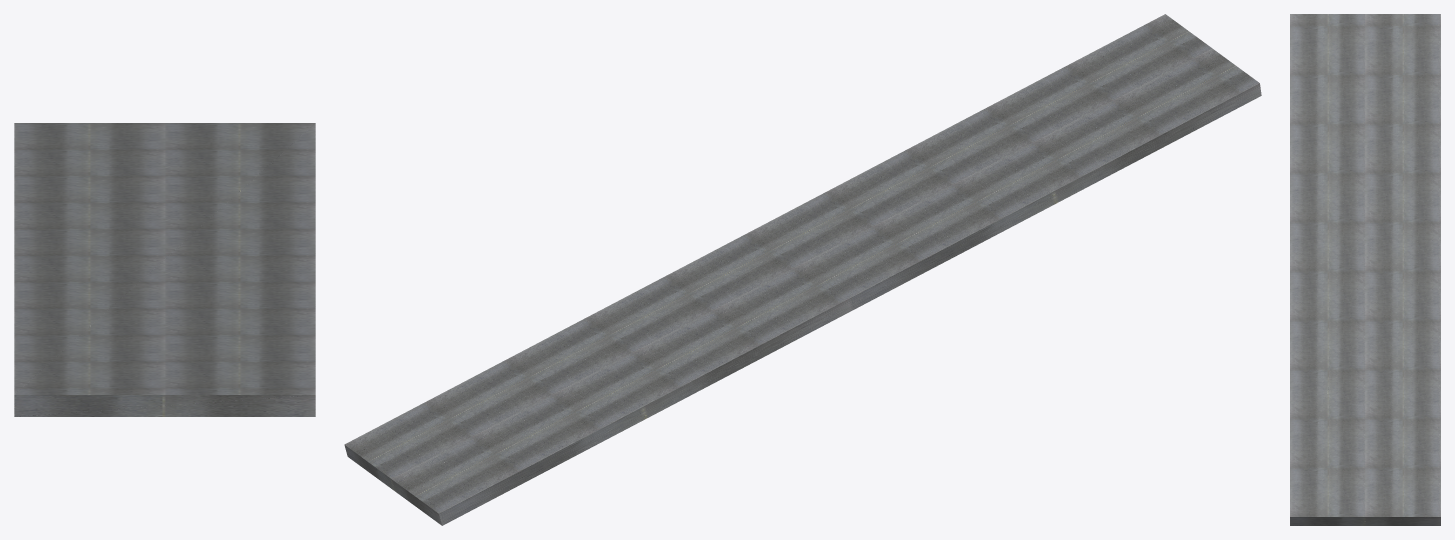
Rendered from Road_9.fbx.
3 views of the same model, side by side, from view 1: azimuth 90°, elevation 25°; view 2: azimuth 210°, elevation 25°; view 3: azimuth 270°, elevation 25° (orthographic). The views are drawn at different scales.
Parts seen in each view (by area): view 1: Road_9; view 2: Road_9; view 3: Road_9.
Boxes of the visible parts, left/top/right/bottom form: Road_9: left=14, top=123, right=315, bottom=416; Road_9: left=344, top=14, right=1261, bottom=525; Road_9: left=1290, top=14, right=1440, bottom=525.
Bounding box in the file's own units: 76.88 × 21.72 × 15.3.
